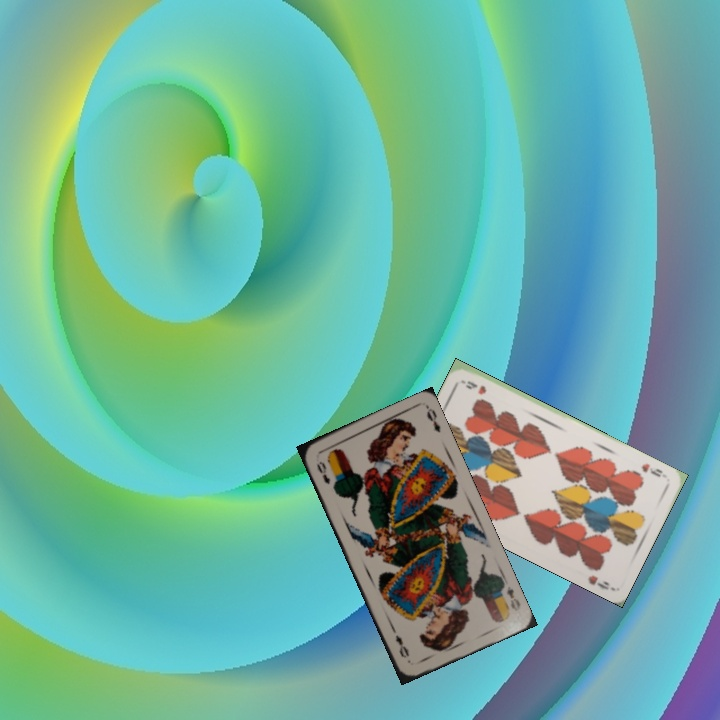EO: (502, 582, 523, 614), (313, 457, 333, 487)
H9: (637, 459, 665, 480)
